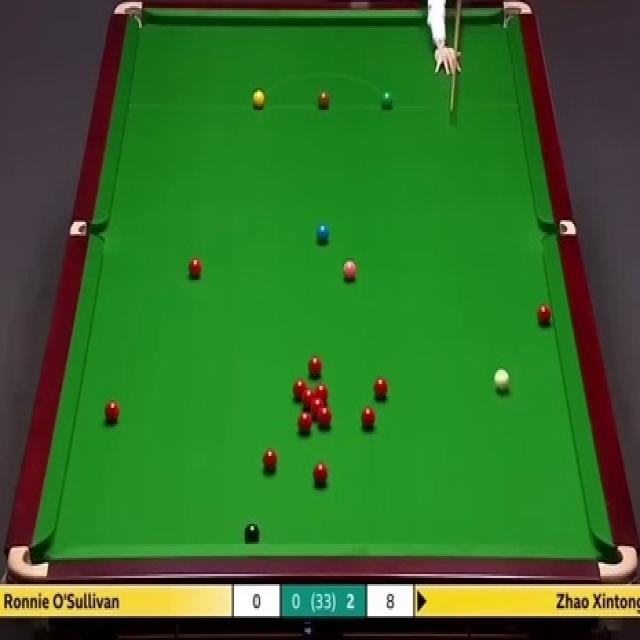pocket: (6, 543, 49, 582), (596, 542, 636, 582), (499, 0, 534, 31), (113, 0, 144, 29), (541, 218, 577, 237), (69, 218, 104, 236)
